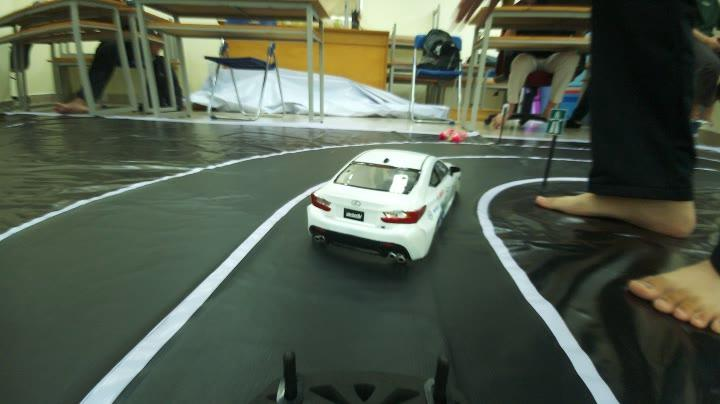car: (301, 136, 439, 258)
highway_entry: (542, 104, 572, 139)
